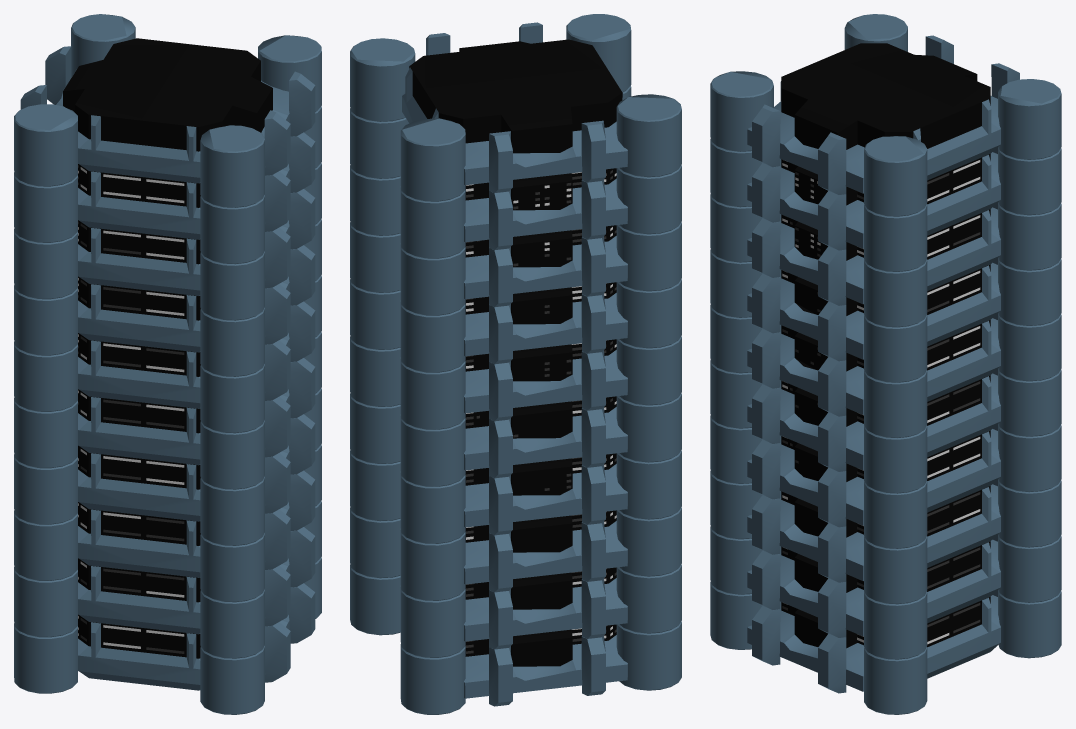
File: building_007.glb
3 renders of one model, left to right at view 1: azimuth 30°, elevation 25°; view 2: azimuth 150°, elevation 25°; view 3: azimuth 270°, elevation 25°, orthographic. The views are drawn at different scales.
Visible parts, largest first — view 1: building.007; view 2: building.007; view 3: building.007.
Part boxes in pixels (x1=…): building.007: x1=14, y1=14, x2=321, y2=714; building.007: x1=350, y1=14, x2=681, y2=714; building.007: x1=710, y1=14, x2=1061, y2=714.
Size of the model in its own units: 6.36 by 11.06 by 6.36.
